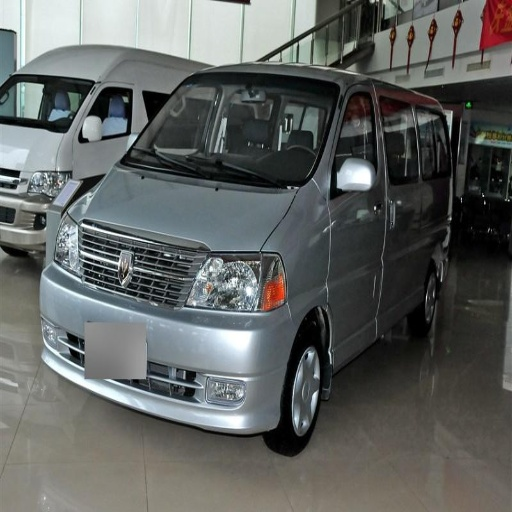front_bumper: (43, 270, 298, 430)
front_glass: (118, 74, 338, 189)
front_left_door: (331, 88, 389, 347)
front_right_light: (54, 214, 101, 284)
